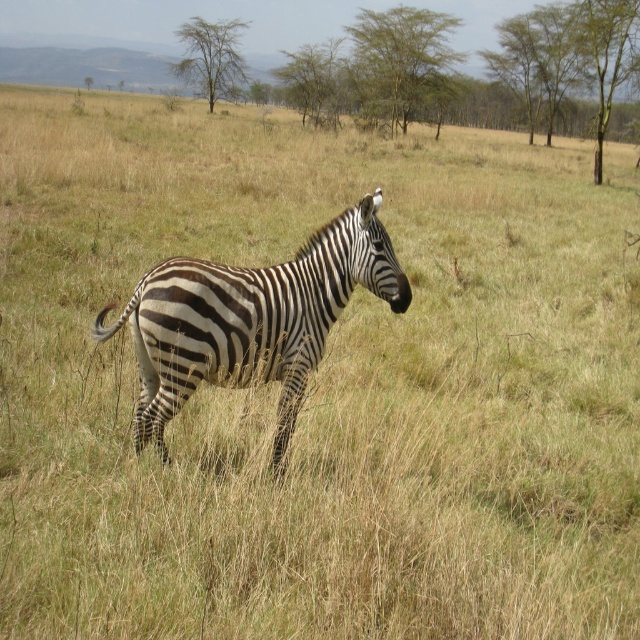Zebra: (89, 187, 413, 489)
